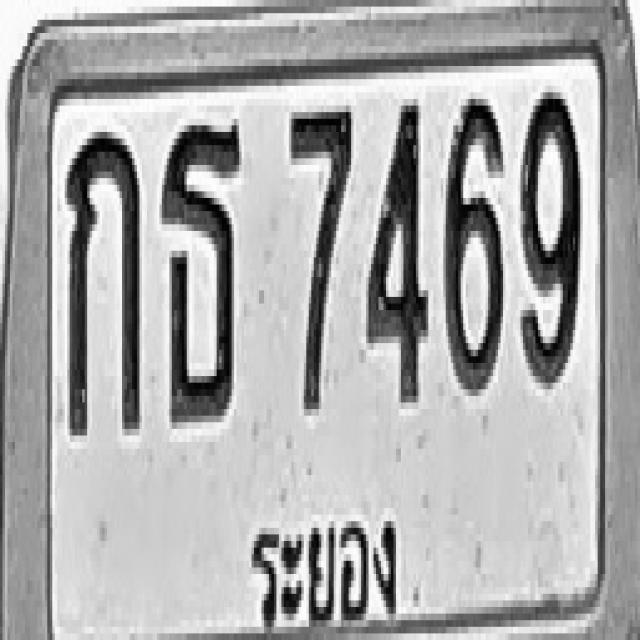10GorGai: (66, 126, 141, 436)
33ThorThong: (161, 119, 240, 422)
4: (365, 99, 427, 402)
6: (443, 93, 503, 390)
7: (289, 106, 351, 416)
9: (520, 89, 580, 386)
Rayong: (244, 475, 403, 640)
